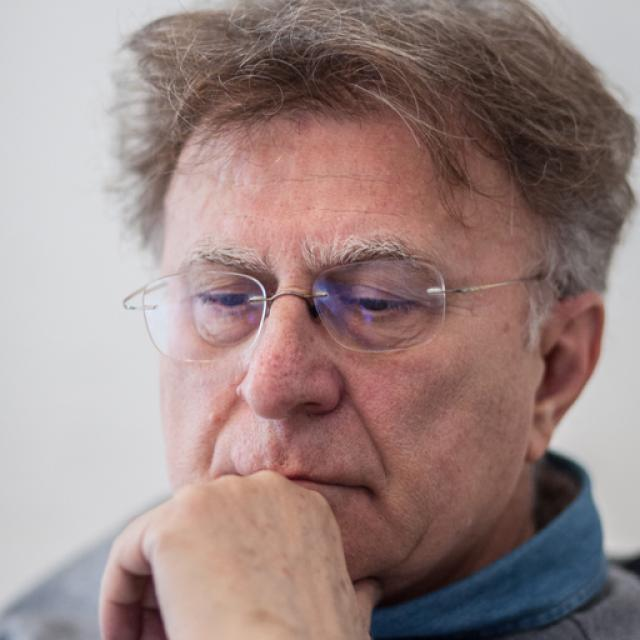anger: (159, 107, 535, 578)
